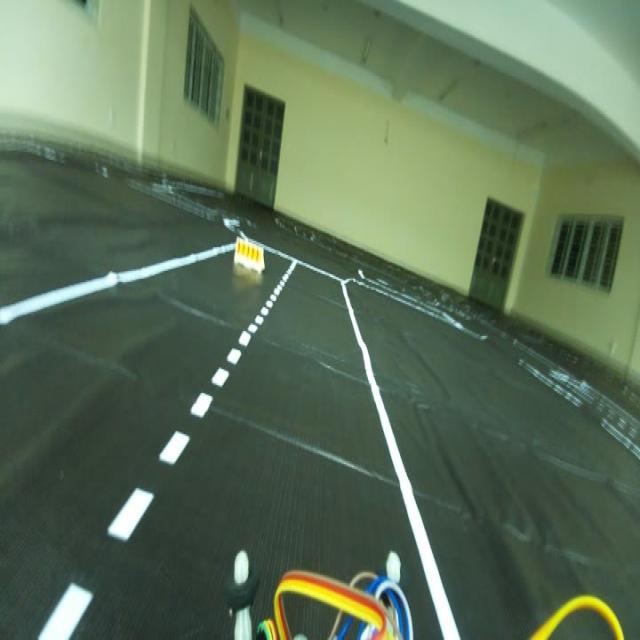roadblock: (231, 230, 277, 269)
